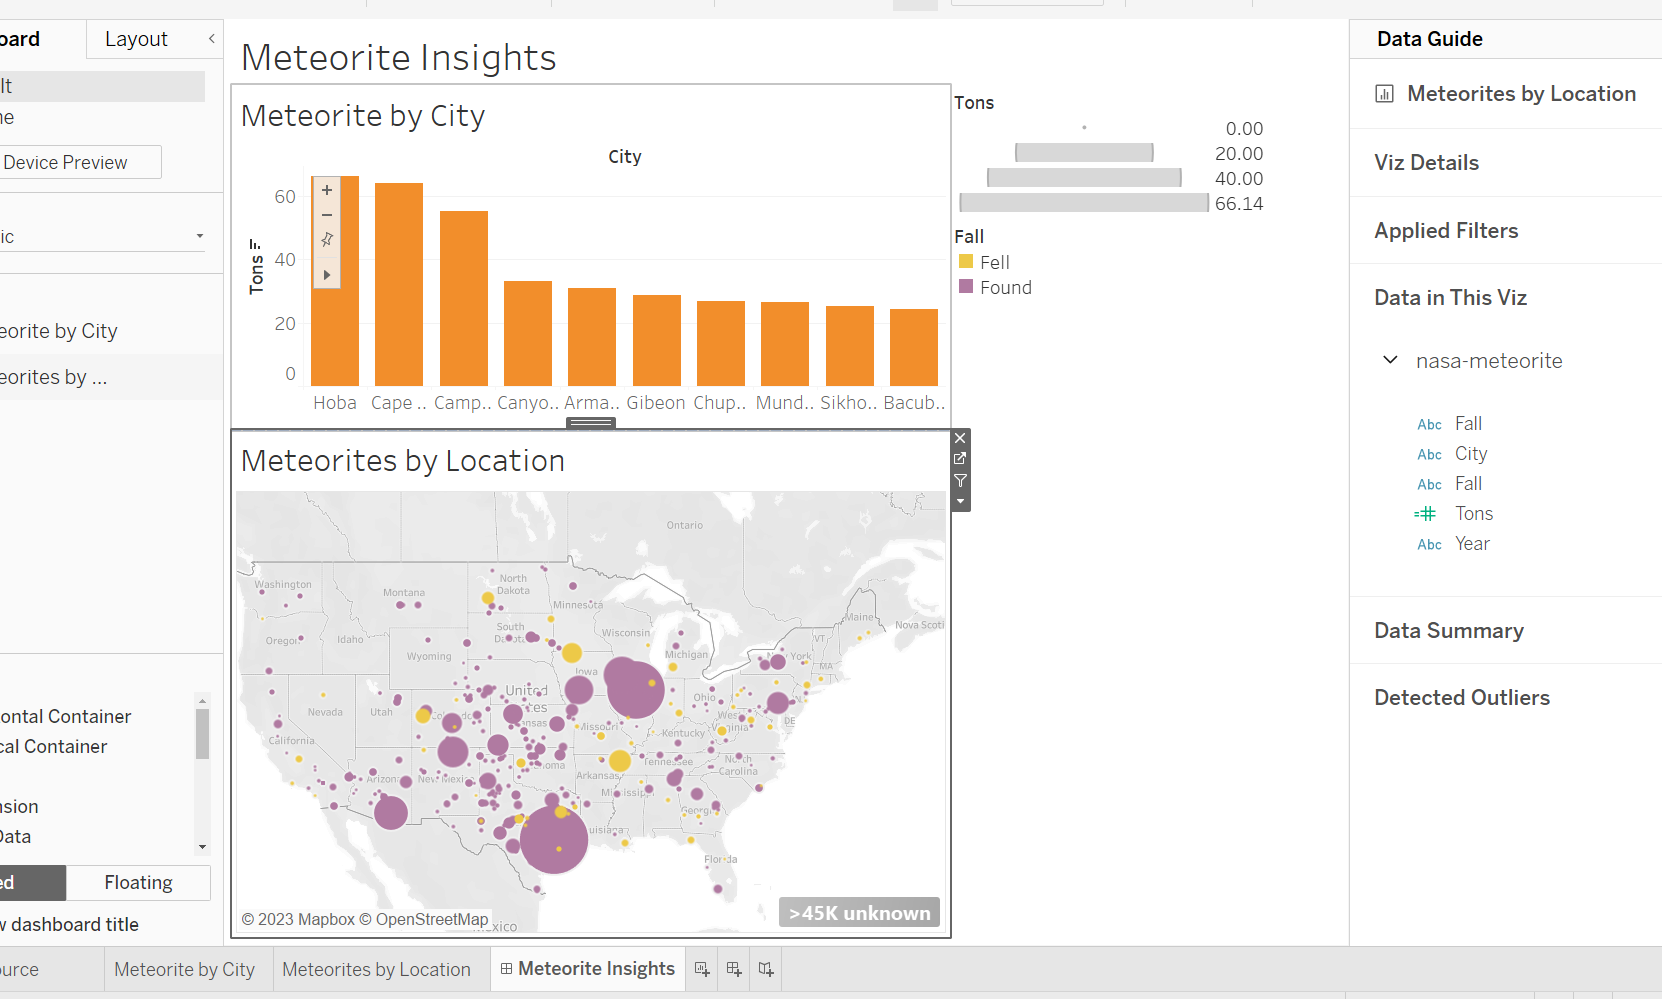

Layout of this report page (visuals, bound fields, positions):
{"tool":"tableau","page":{"name":"Meteorite Insights","canvas":[1000,1000],"units":"permille","ordinal":0},"visuals":[{"type":"title","box":[7.1,8.6,985.8,62.6]},{"type":"worksheet","title":"Meteorite by City","mark":"Automatic","rows":["Calculation_2104306954085478400"],"cols":["City"],"box":[7.1,71.3,638.8,372.6]},{"type":"legend","title":"Meteorites by Location","param":"[federated.1jjwo610lup8l619fdtkn0a4oeha].[sum:Calculation_2104306954085478400:qk","box":[645.9,71.3,347,144.7]},{"type":"legend","title":"Meteorites by Location","param":"[federated.1jjwo610lup8l619fdtkn0a4oeha].[none:Fall:nk]","box":[645.9,216,347,90.7]},{"type":"worksheet","title":"Meteorites by Location","mark":"Automatic","box":[7.1,443.8,638.8,547.5]}]}

Visuals, with their boxes on the dashboard's canvas, which has no fixed pixel size, in thousandths of its width and height (x1, y1, x2, y2). These are canvas units, not pixel positions in the 1662x999 screenshot, which may show the page scaled, cropped or inside an application window:
title: [7,9,993,71]
"Meteorite by City" worksheet: [7,71,646,444]
"Meteorites by Location" legend: [646,71,993,216]
"Meteorites by Location" legend: [646,216,993,307]
"Meteorites by Location" worksheet: [7,444,646,991]
